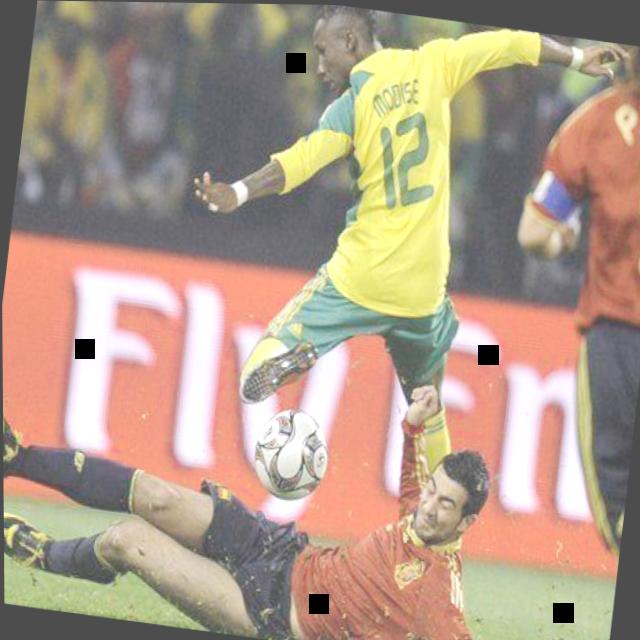Fall-Detected: (2, 368, 528, 640)
